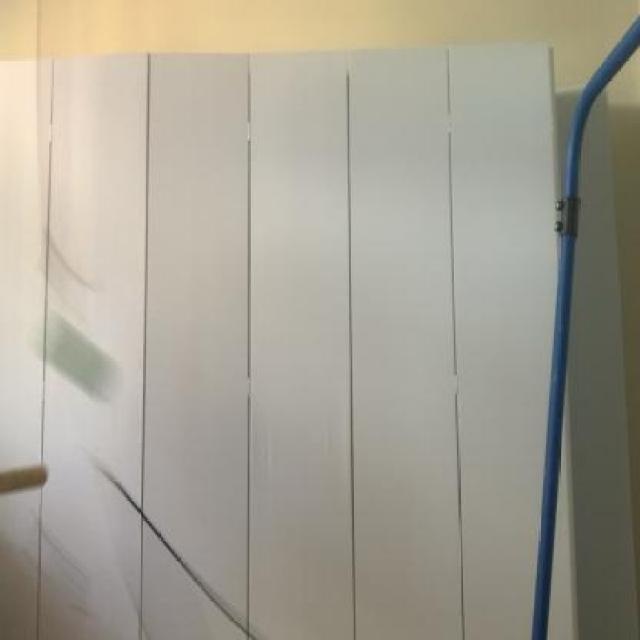baseball: (24, 305, 134, 407)
